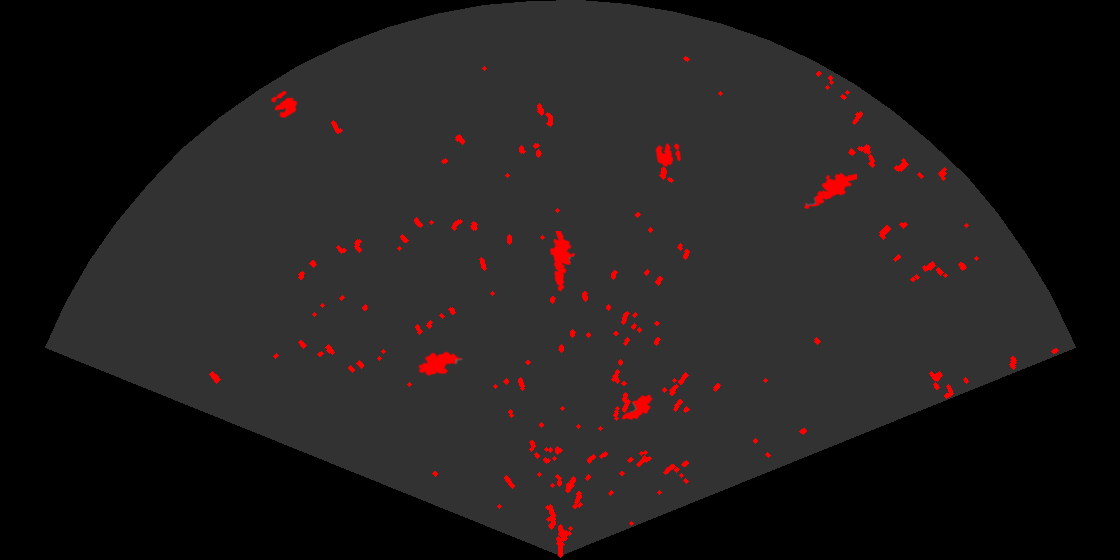AUV: (416, 350, 464, 378), (620, 393, 654, 422)
ball: (269, 89, 299, 120), (654, 142, 683, 168)
frogman: (802, 171, 857, 211), (548, 231, 577, 293)
